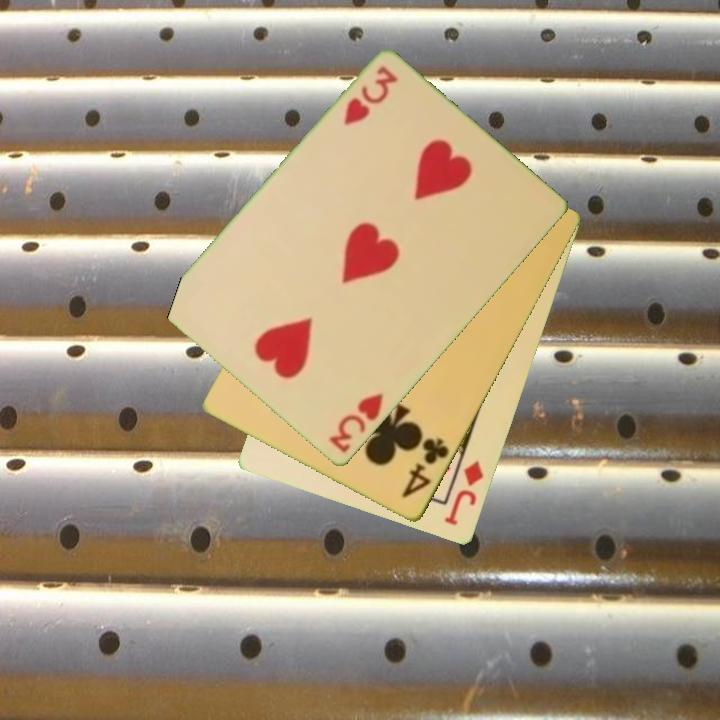3h: (325, 390, 387, 456), (340, 62, 401, 129)
4c: (398, 434, 453, 502)
Jd: (441, 457, 487, 529)
